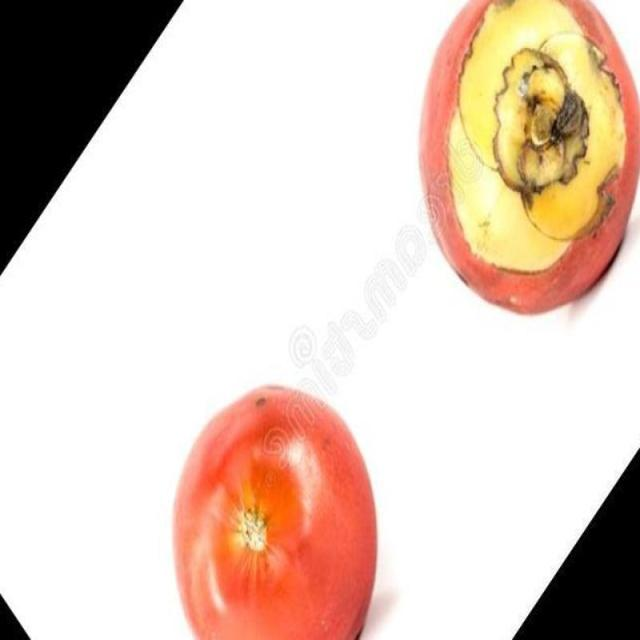good: (418, 0, 639, 318), (170, 385, 378, 639)
